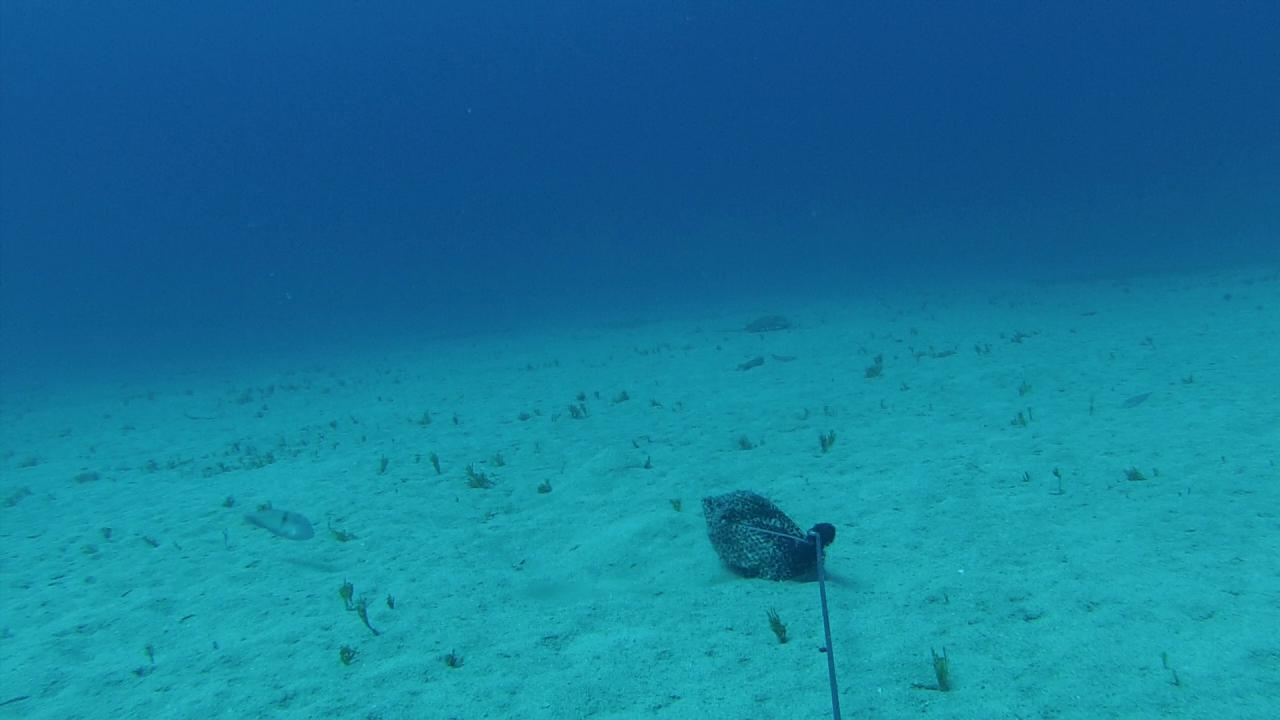dasyatis: (713, 313, 790, 334)
raor: (241, 503, 317, 540)
